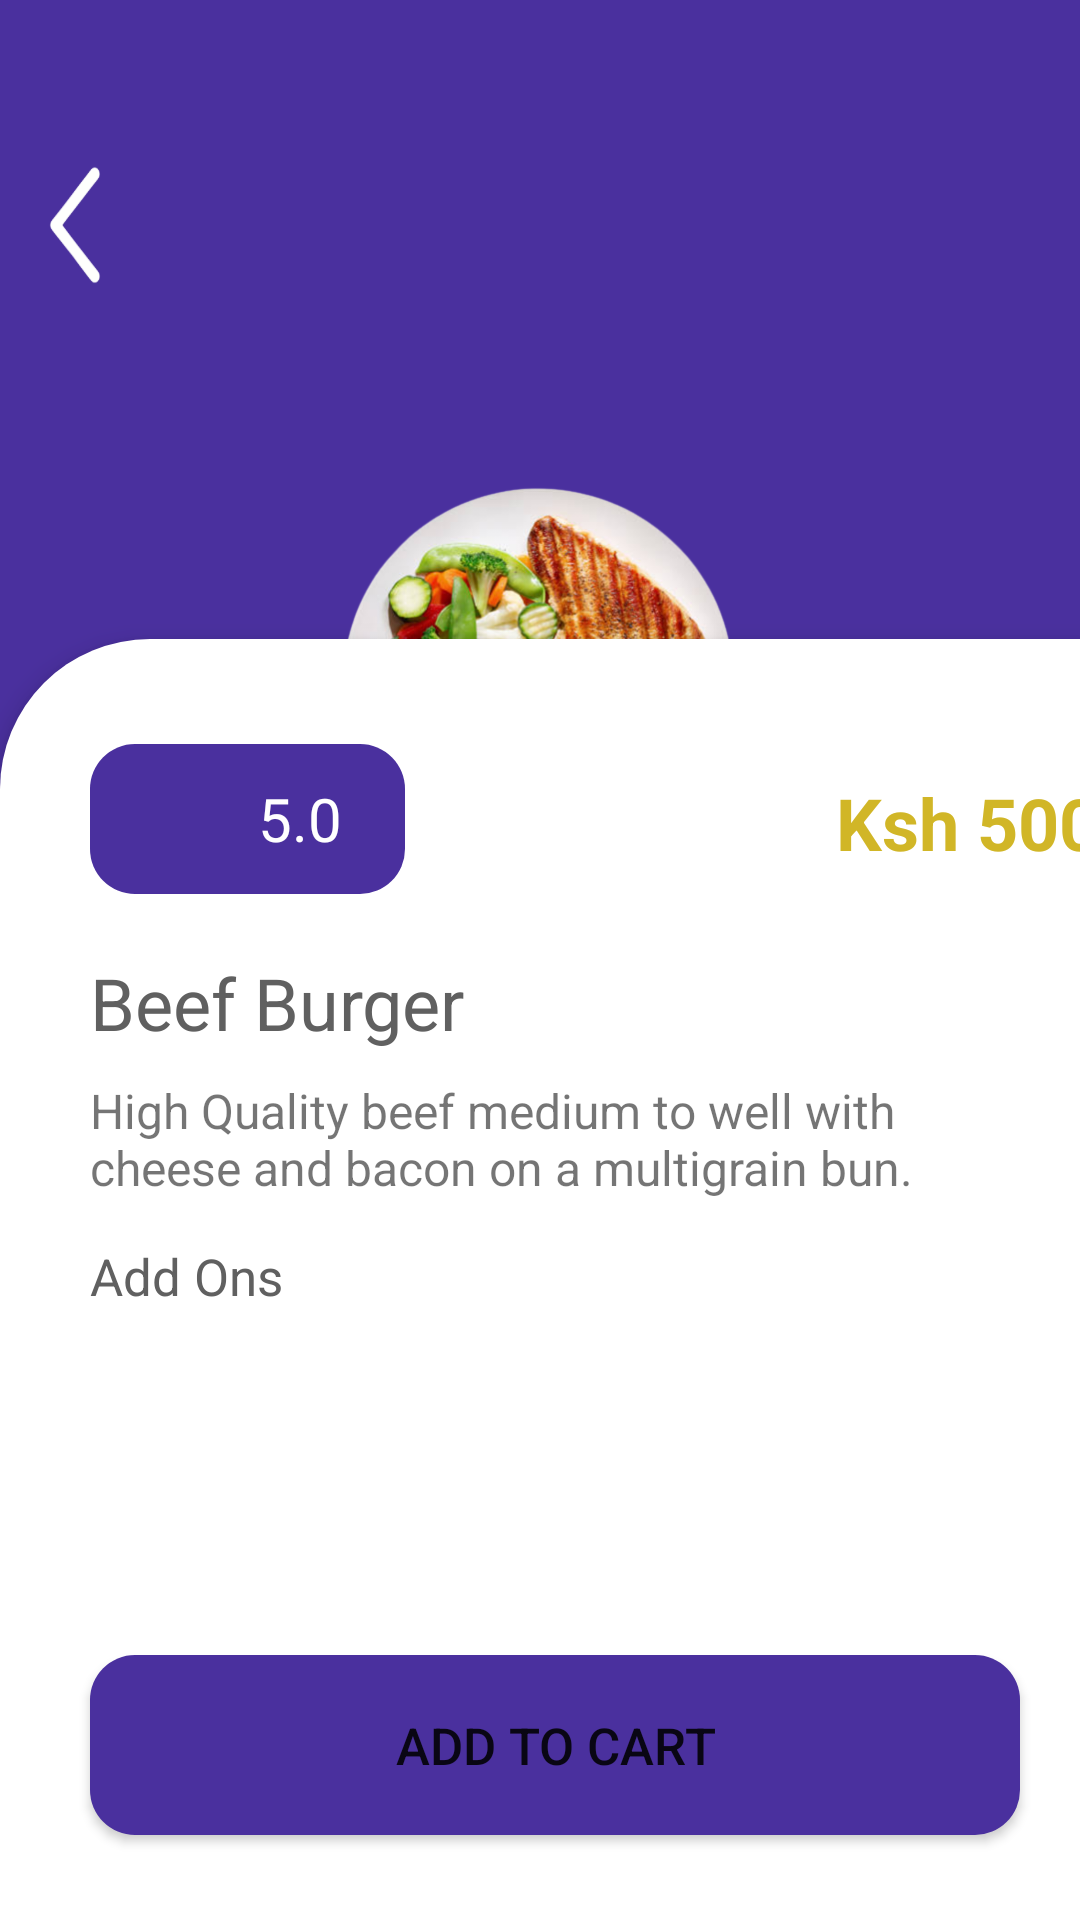

Screen size 1080×1920. Icon name, then its center in pixels as point (x, y):
backbtn: point (75, 225)
